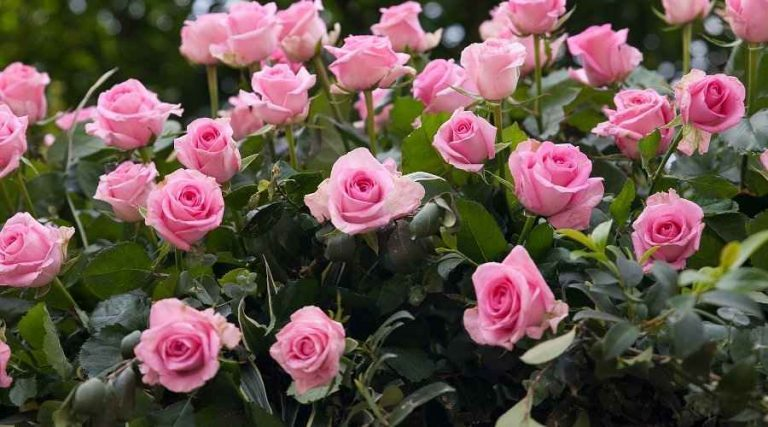Rose: (310, 148, 419, 229), (467, 250, 555, 345), (139, 301, 218, 392), (511, 138, 591, 223), (278, 307, 341, 385), (0, 215, 65, 284), (634, 200, 700, 266), (149, 175, 217, 236), (95, 85, 163, 146), (331, 32, 398, 89), (607, 92, 669, 153), (176, 118, 239, 176), (569, 26, 632, 80), (685, 73, 742, 129), (256, 64, 312, 121), (468, 41, 521, 100), (97, 164, 156, 217), (437, 112, 495, 162), (275, 2, 328, 55), (0, 62, 49, 119), (418, 64, 466, 113), (376, 6, 431, 43), (507, 1, 562, 31)
